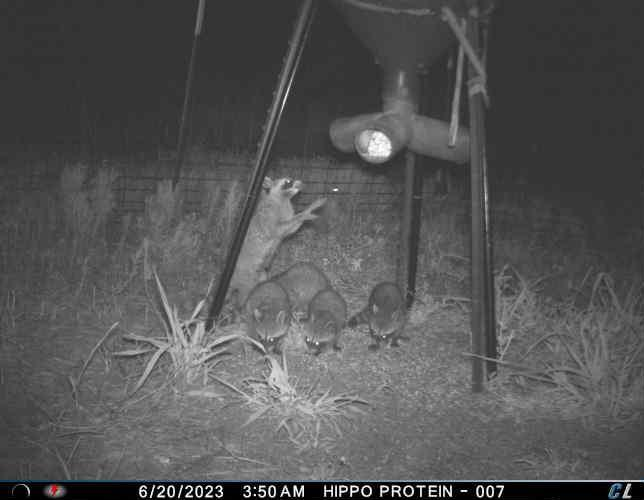Raccoon: (215, 173, 329, 303), (349, 280, 418, 353), (298, 286, 351, 364), (239, 284, 292, 356), (266, 259, 337, 305)
